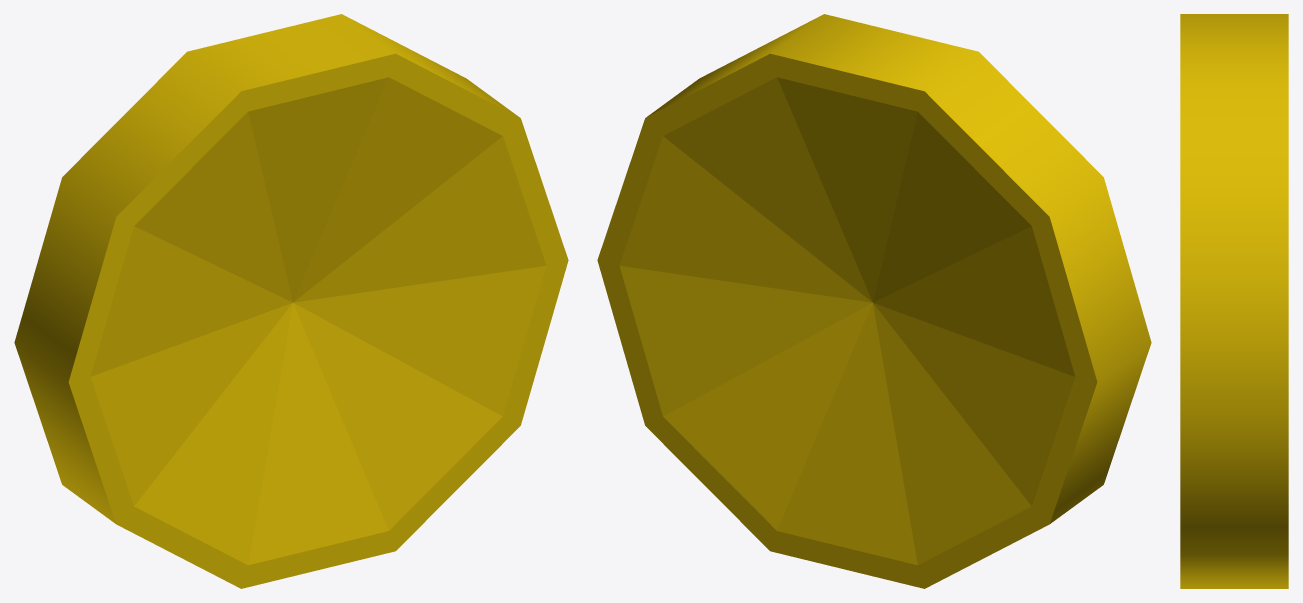
Rendered from Coin01.FBX.
The picture shows the model from 3 angles, left to right: view 1: azimuth 30°, elevation 25°; view 2: azimuth 150°, elevation 25°; view 3: azimuth 270°, elevation 25°; orthographic projection.
Parts seen in each view (by area): view 1: ChamferCyl001; view 2: ChamferCyl001; view 3: ChamferCyl001.
Boxes of the visible parts, x1,y1,x2,y2 form: ChamferCyl001: (14,14,568,588); ChamferCyl001: (597,14,1151,588); ChamferCyl001: (1180,14,1288,588).
Size of the model in its own units: 56.4 by 53.64 by 10.58.
